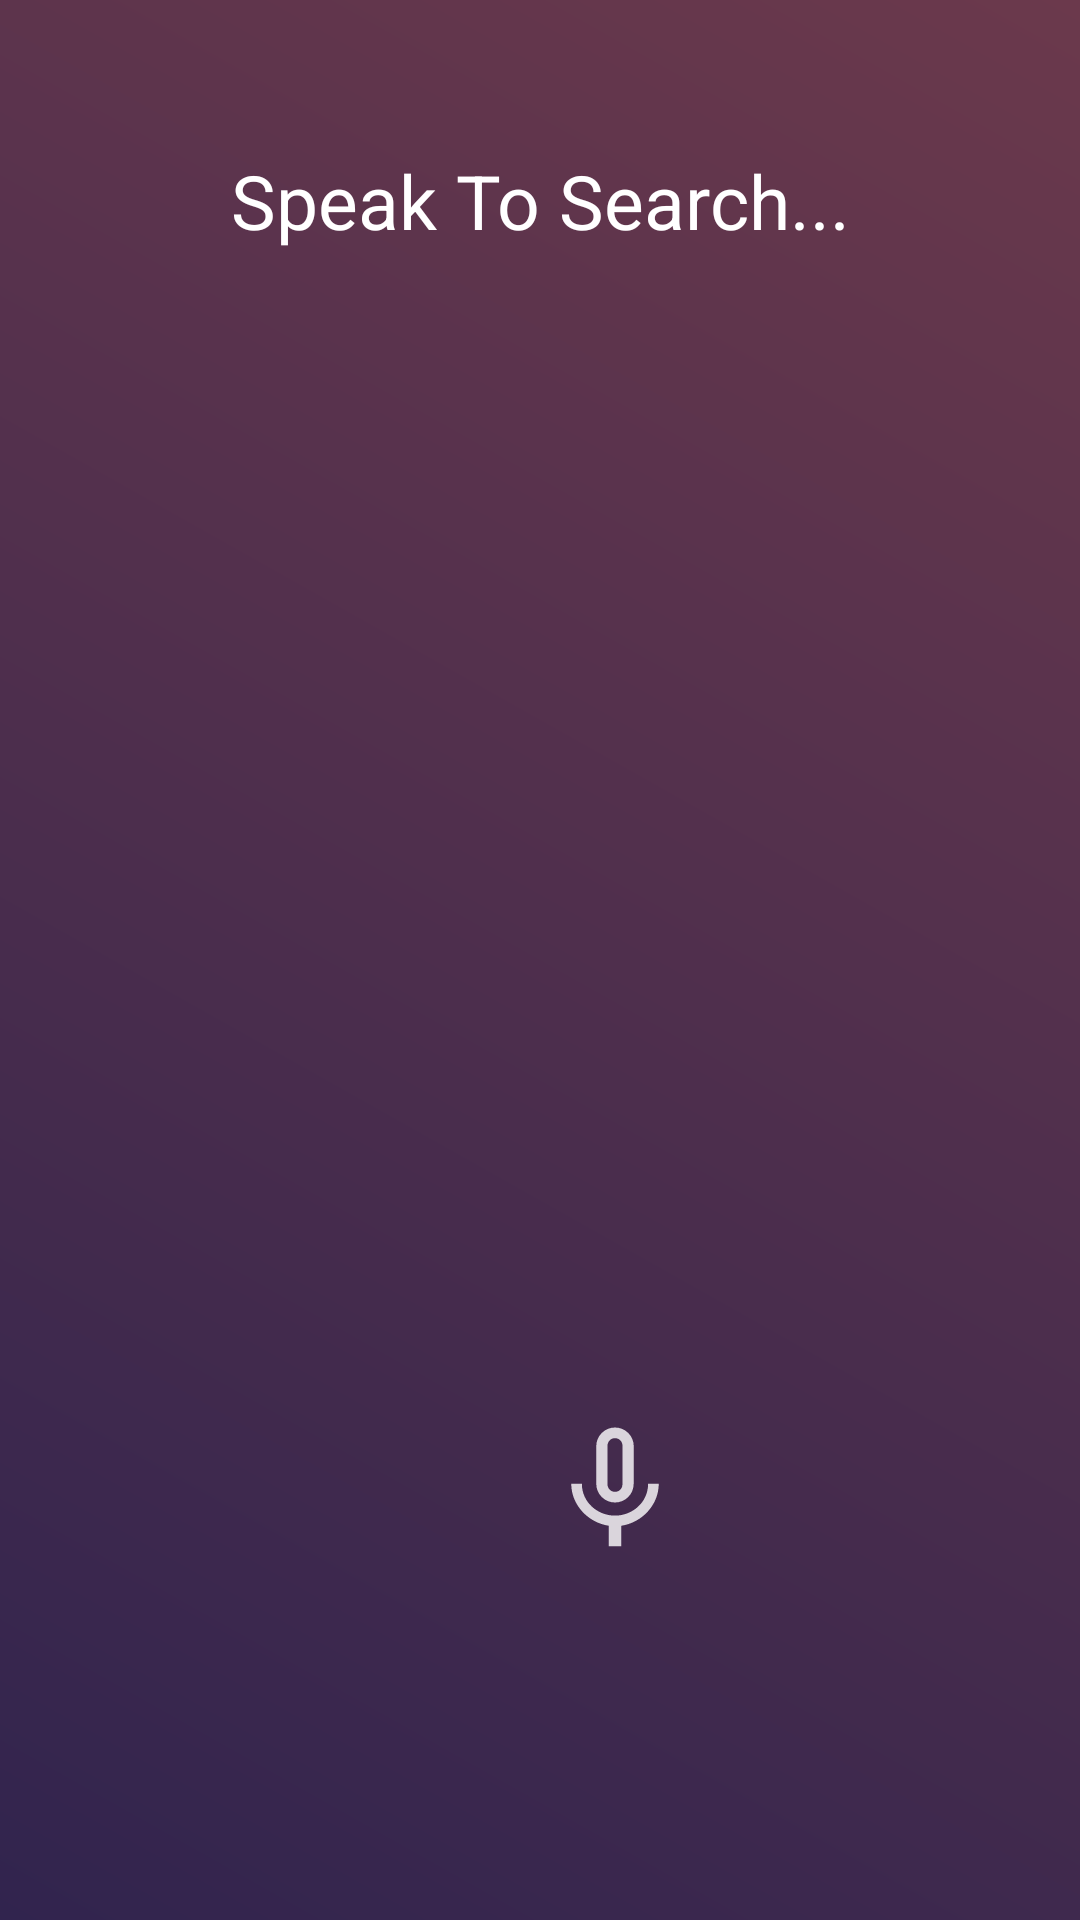

Screen size 1080*1920. Icon name, then its box in pixels as rect(x1, y1, x2, y2):
mic: rect(571, 1427, 659, 1547)
